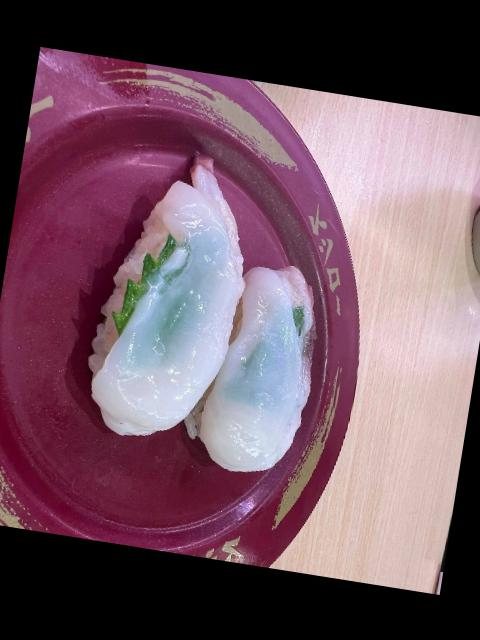janred: (0, 45, 397, 567)
